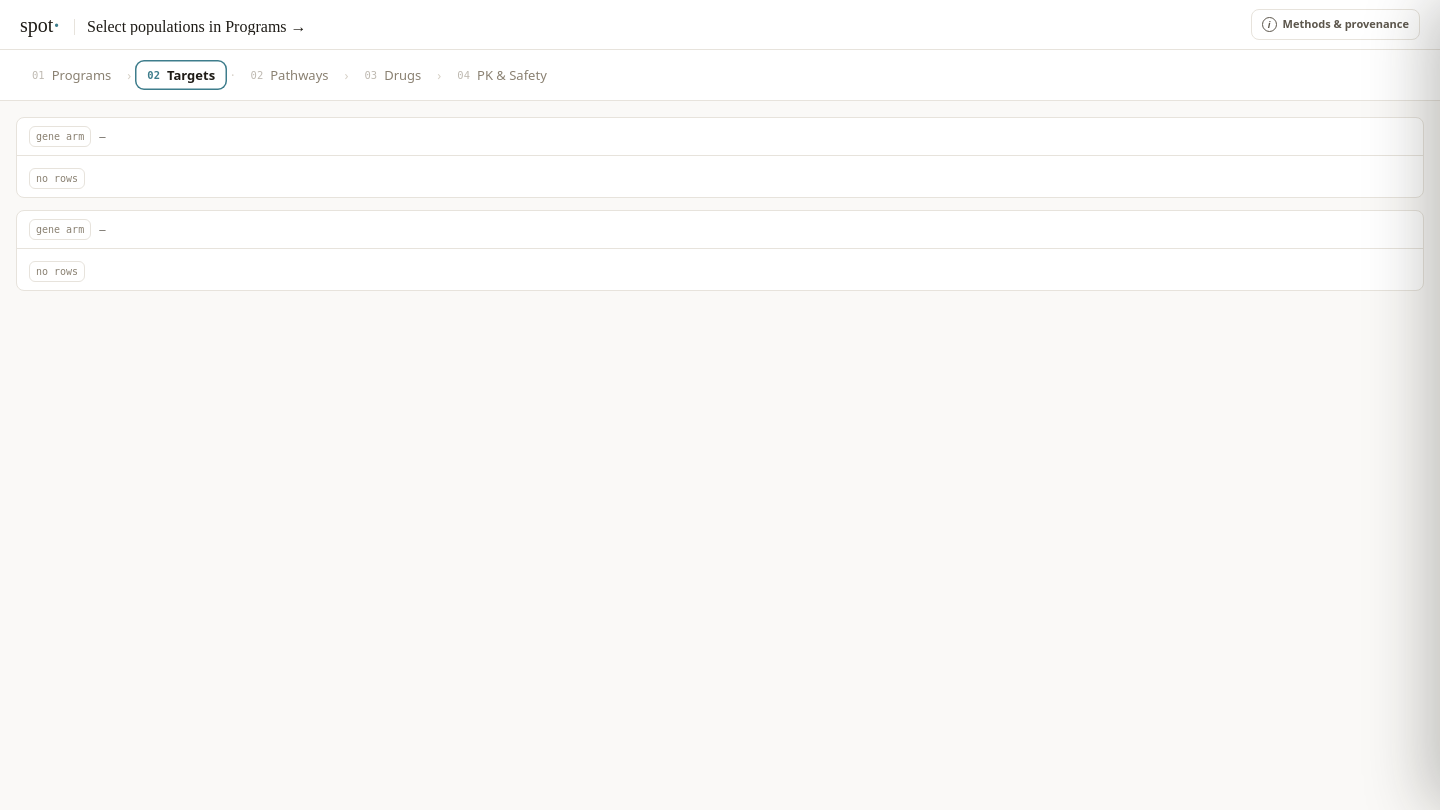
Test: drawer is route-specific and ready to consume the final package run fields › targets: run timestamp + source/code hashes + rerun command + CS notebook all render
This screenshot has width=1440, height=810.
expect the element showing "gene arm — no rows gene arm — no rows" is shown: met, box x1=16 y1=117 x2=1424 y2=291
# wait for the admitted resolution, then open the ONE drawer
Click the button "i Methods & provenance" at (1335, 25), box x1=1251 y1=9 x2=1420 y2=40
(page scrolled)
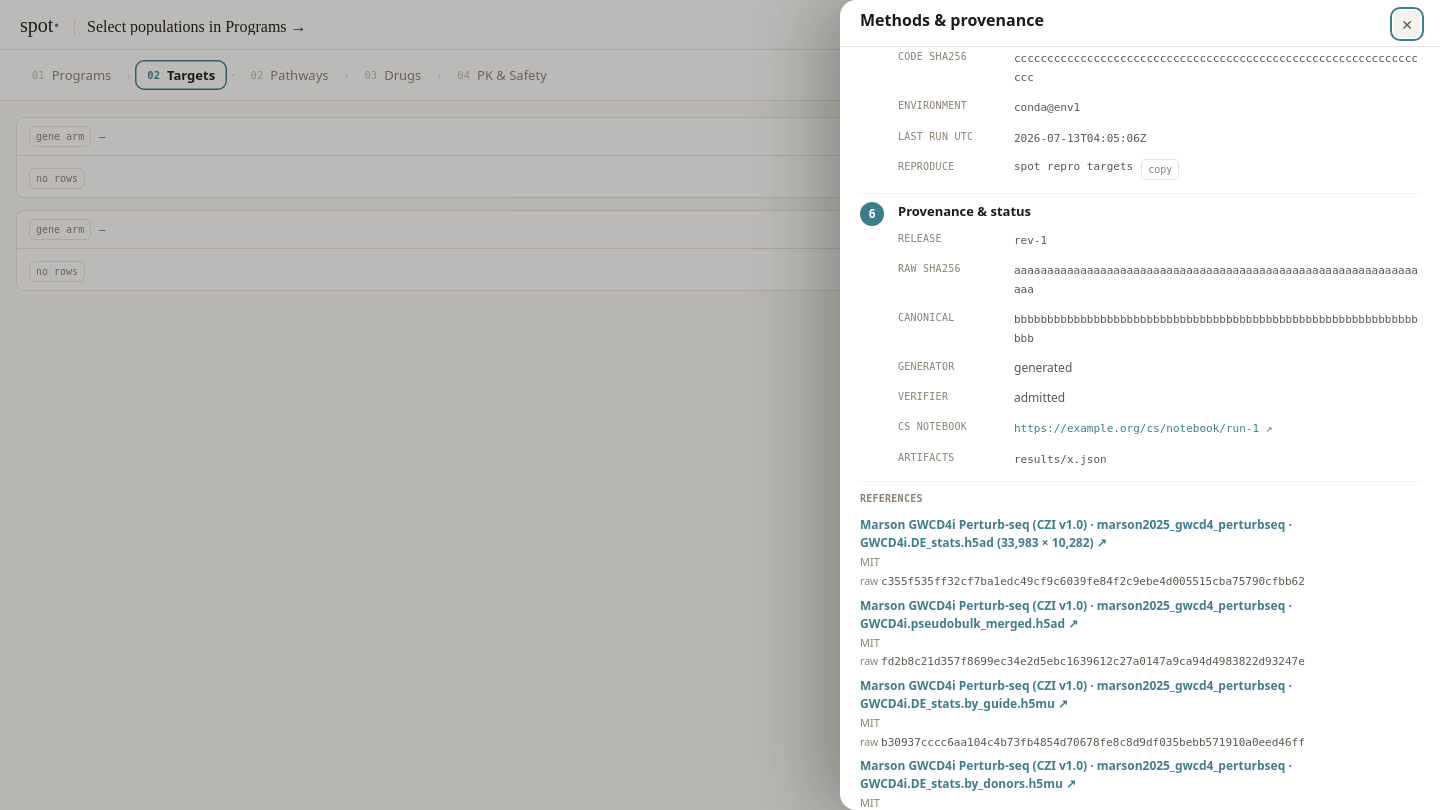
expect the text "2026-07-13T04:05:06Z" is shown: met, box x1=1014 y1=132 x2=1146 y2=145
